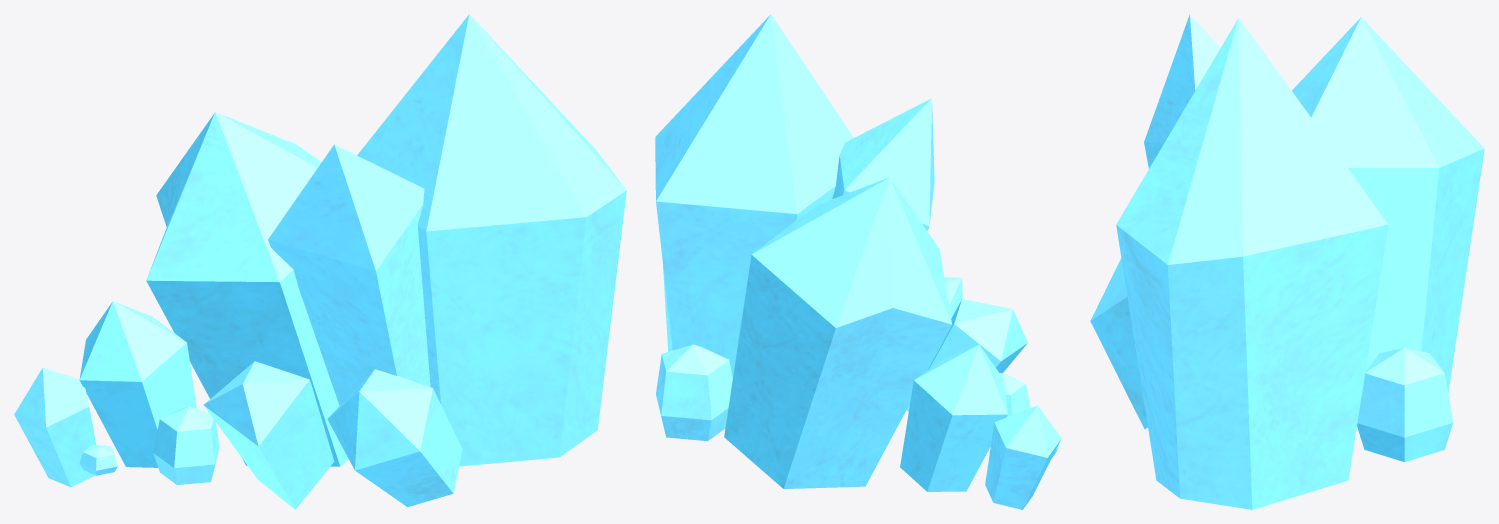
File: final Crystal_002.fbx
3 views of the same model, side by side, from view 1: azimuth 30°, elevation 25°; view 2: azimuth 150°, elevation 25°; view 3: azimuth 270°, elevation 25° (orthographic). The views are drawn at different scales.
Visible parts, largest first — view 1: final_crystal_002; view 2: final_crystal_002; view 3: final_crystal_002.
Boxes of the visible parts, box(x1,y1,x2,y2) form: final_crystal_002: box(14, 14, 626, 509); final_crystal_002: box(655, 14, 1061, 509); final_crystal_002: box(1090, 14, 1484, 509).
Size of the model in its own units: 141 by 119 by 91.23.
